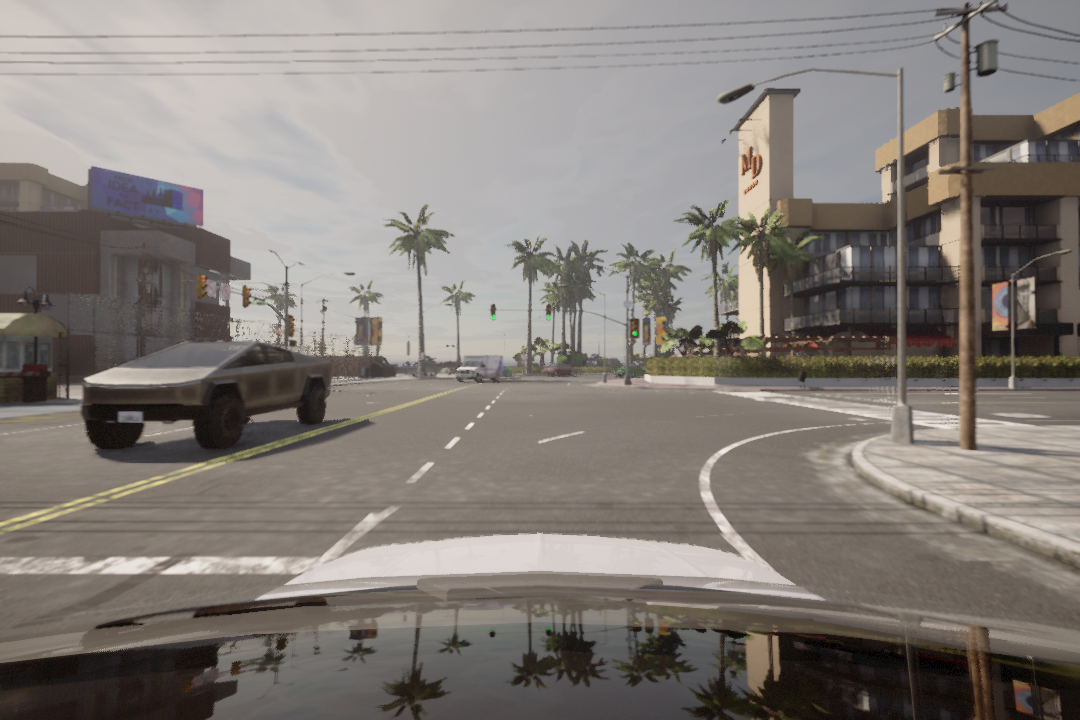TrafficLight: (631, 317, 641, 341), (490, 304, 498, 319), (546, 305, 551, 320)
